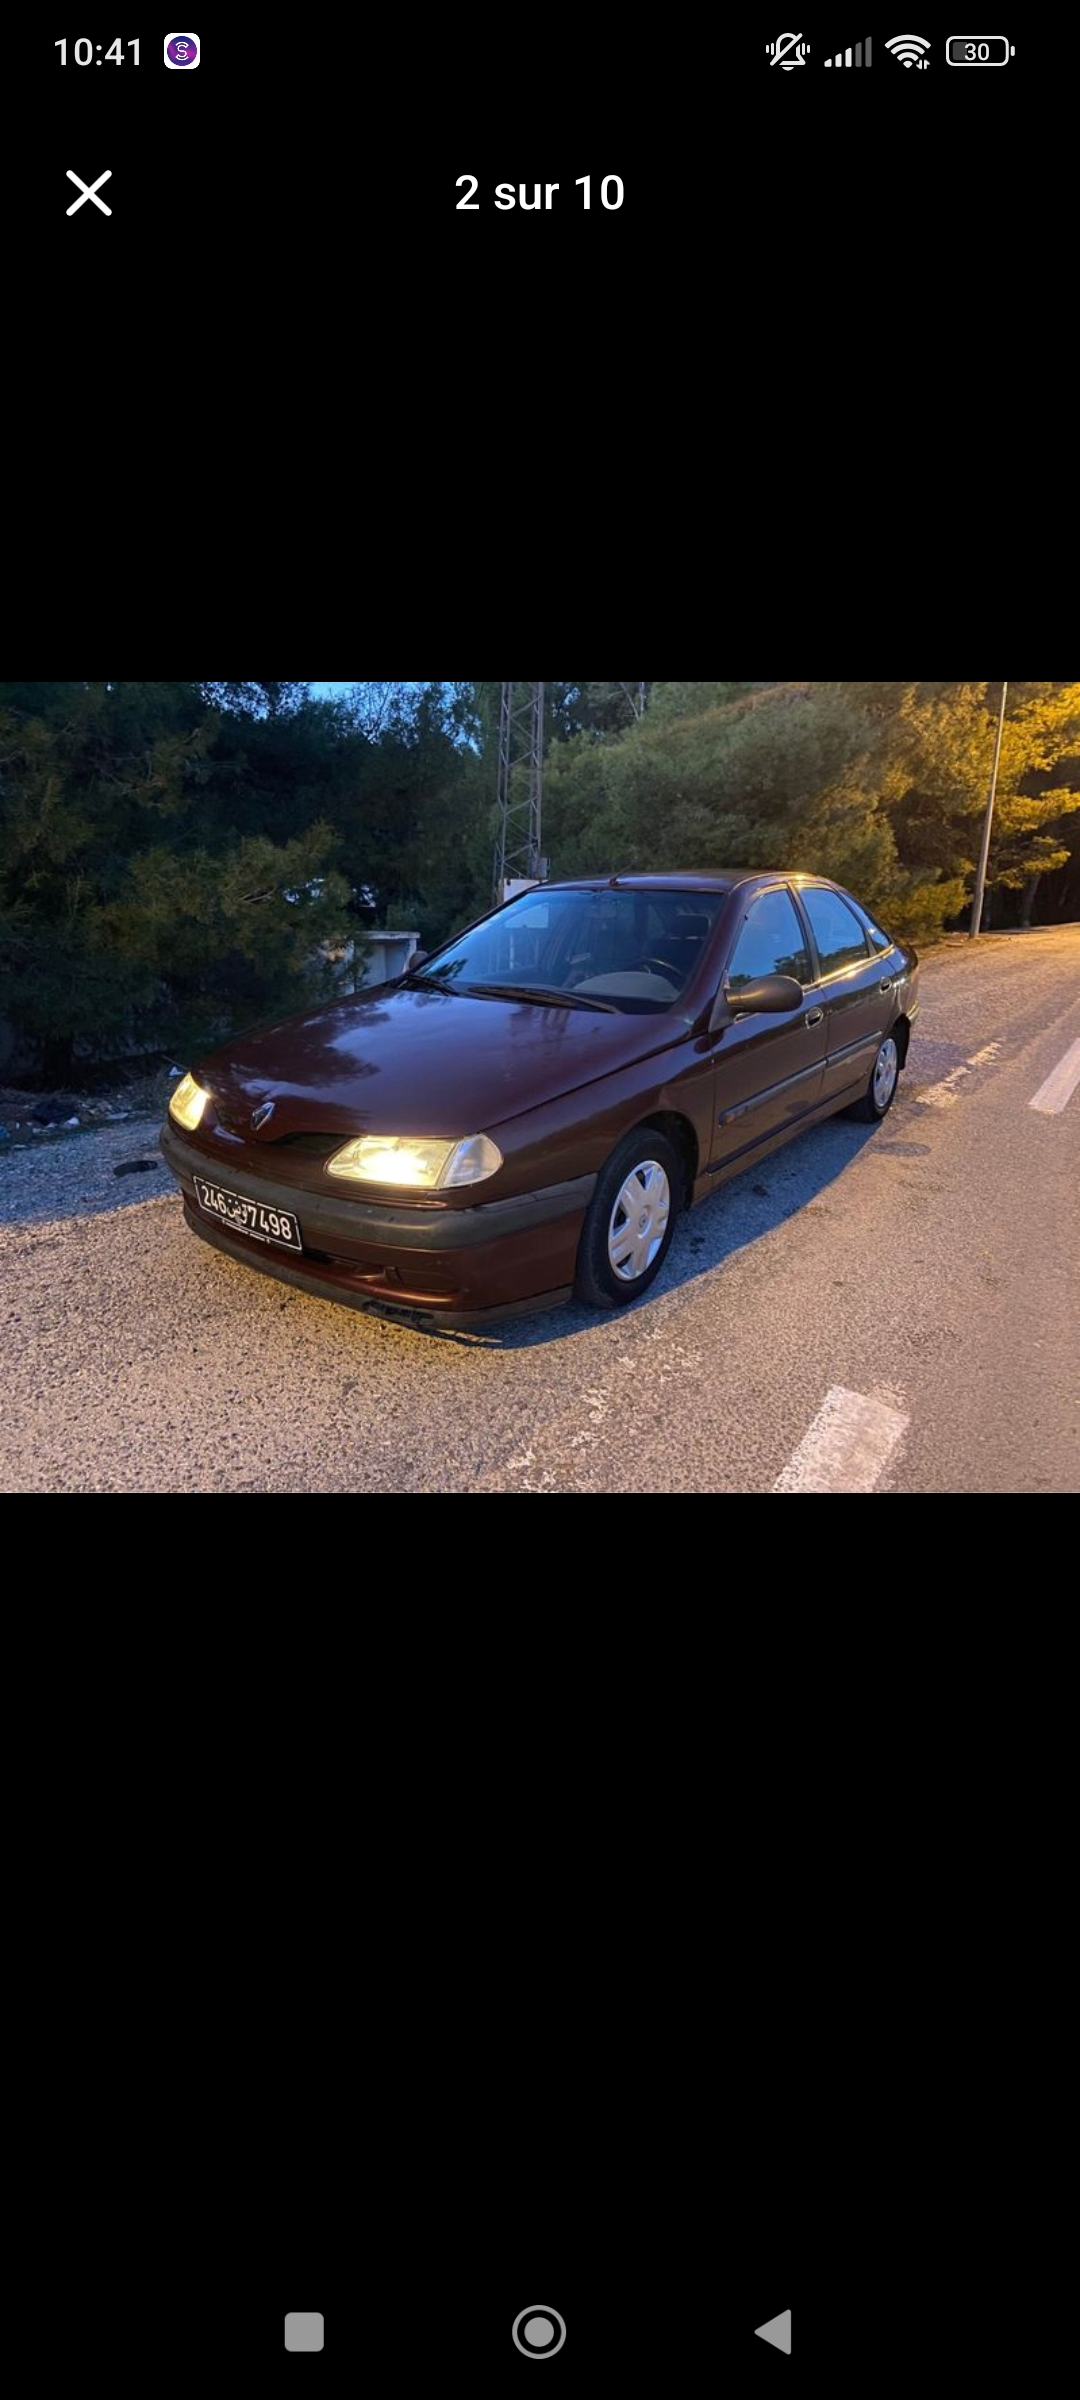kia: (156, 874, 918, 1333)
